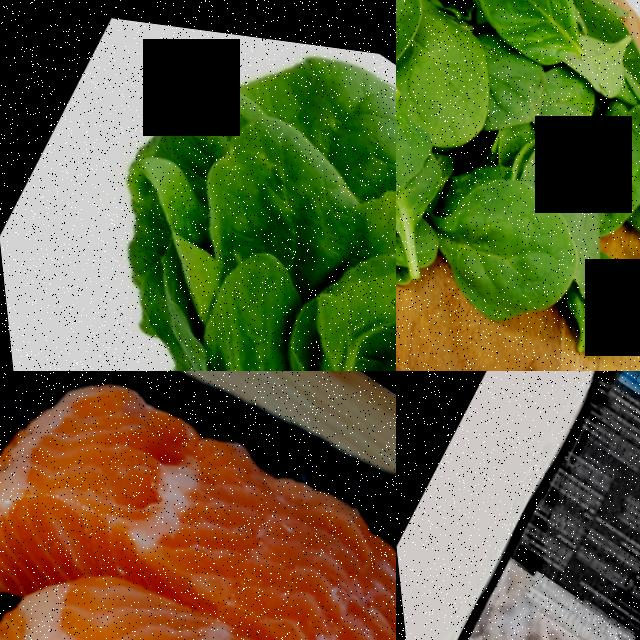salmon: (0, 371, 396, 640), (0, 479, 396, 640)
spinach: (171, 80, 393, 302), (398, 135, 597, 344), (268, 168, 396, 371), (241, 27, 396, 194), (180, 225, 325, 371), (396, 0, 514, 141), (440, 0, 599, 63), (396, 47, 439, 242), (503, 99, 587, 196), (596, 79, 640, 175)
